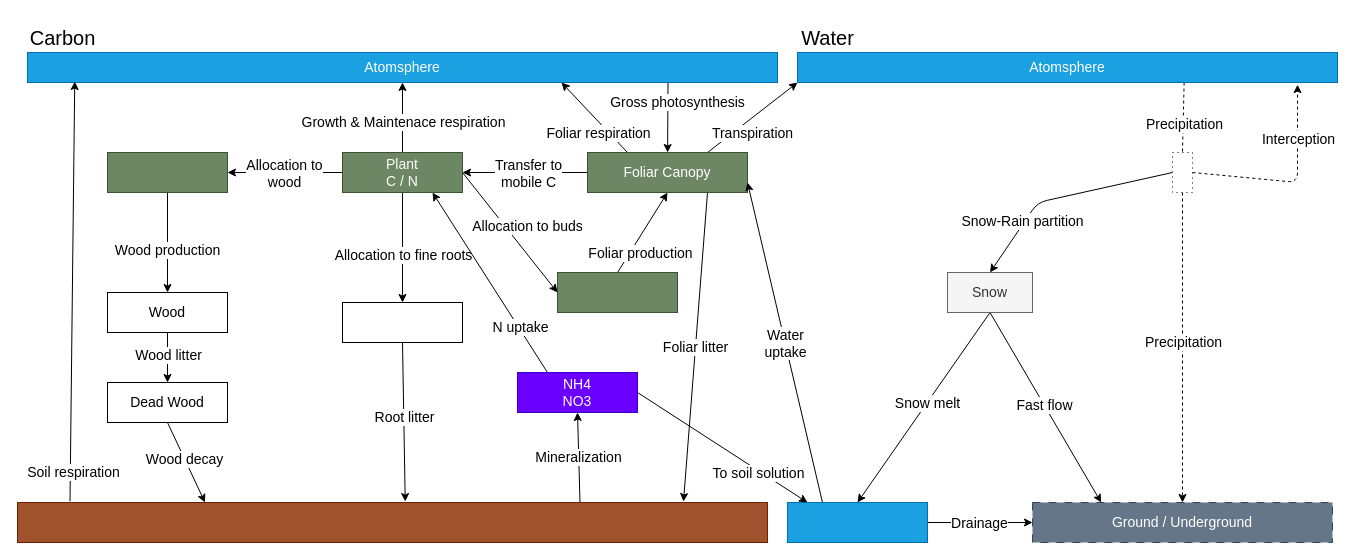
The diagram is 1355 pixels wide and 560 high, and some of its shapes have lost their labels. The centre of each missing label's shape, as x and y in pixels:
"Bud C / N" belongs at pixel 617 292.
"Fine Root" belongs at pixel 402 322.
"Soil" belongs at pixel 392 522.
"Soil Water" belongs at pixel 857 522.
"Wood C / N" belongs at pixel 167 172.
